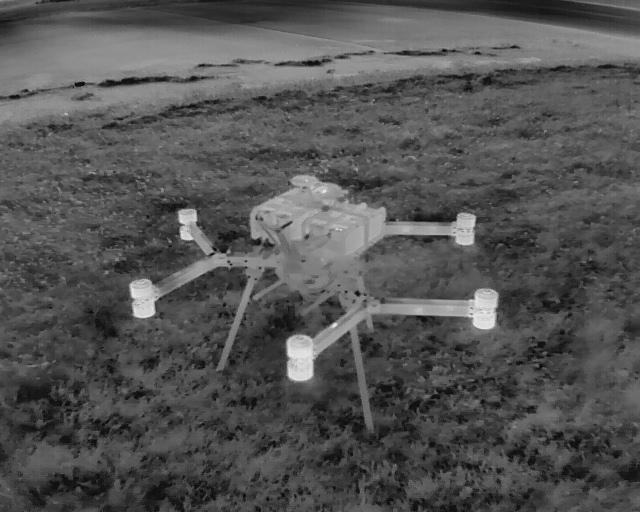drone: (121, 155, 500, 438)
